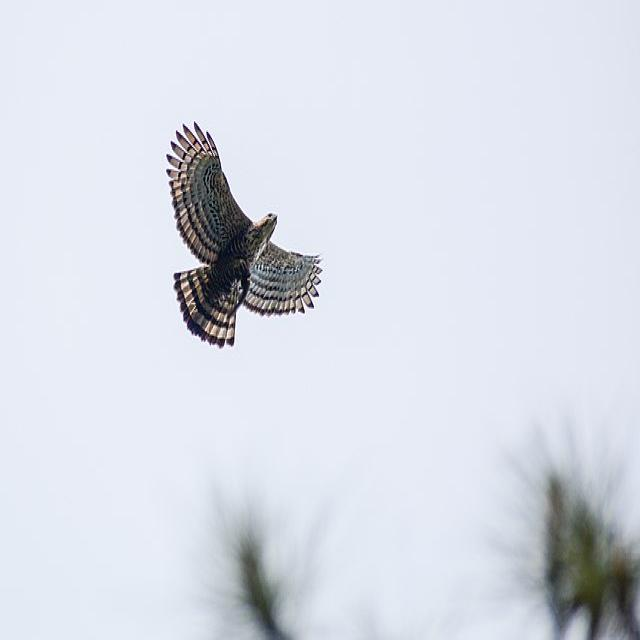Elang Jawa: (153, 113, 335, 364)
